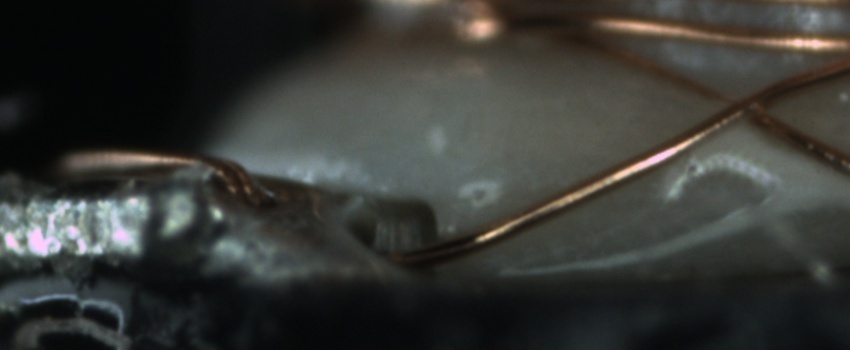CL: (701, 79, 787, 133)
TE: (62, 144, 261, 207)
